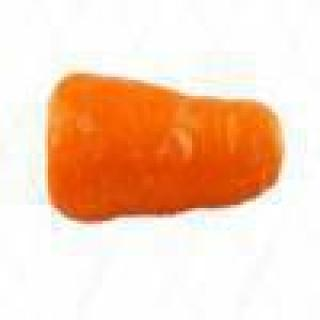Wortel: (27, 65, 289, 247)
